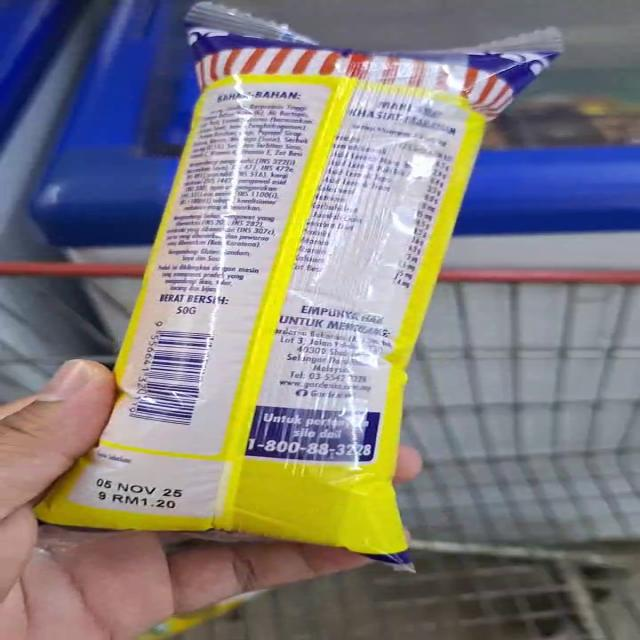Roti: (111, 12, 523, 584)
